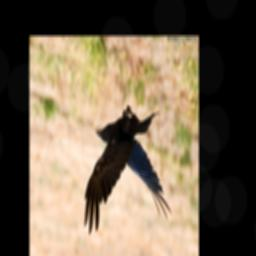Crow: (82, 104, 172, 236)
